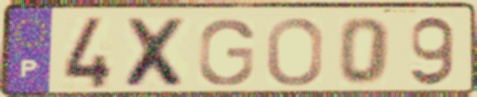0: (335, 15, 392, 88)
4: (60, 14, 116, 93)
9: (409, 14, 457, 88)
G: (196, 17, 257, 88)
O: (264, 15, 326, 88)
X: (121, 15, 192, 90)
